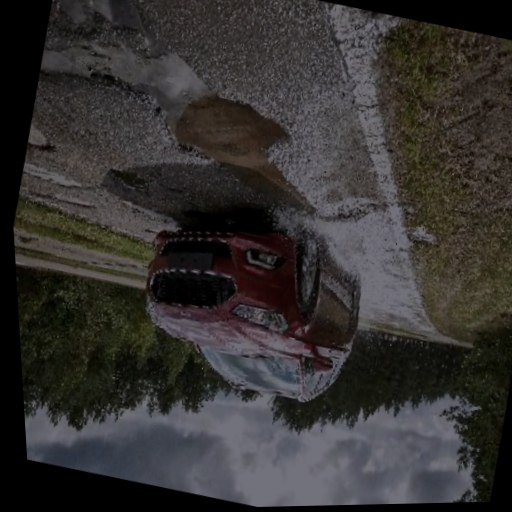pothole: (139, 78, 297, 181), (20, 161, 86, 195), (104, 167, 152, 198), (24, 124, 60, 159)
